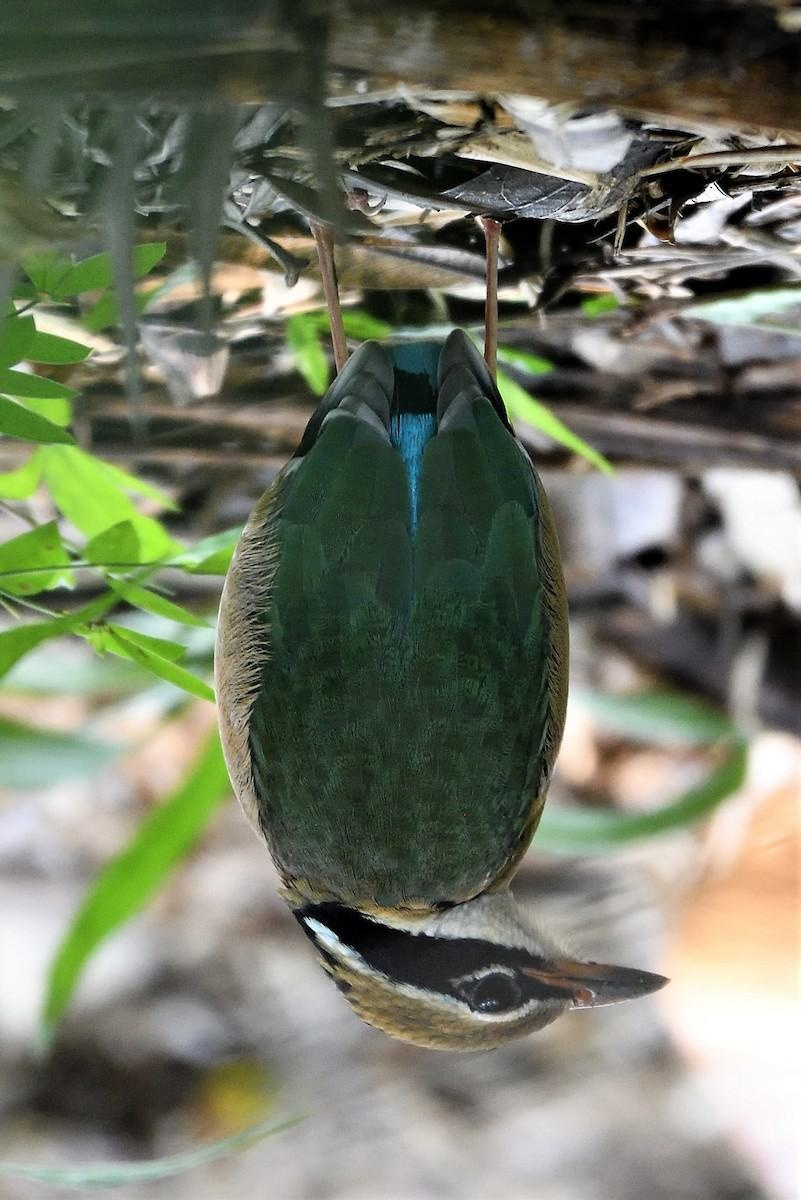pitta: (178, 217, 707, 1072)
